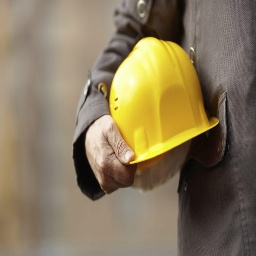helmet: (102, 36, 220, 166)
